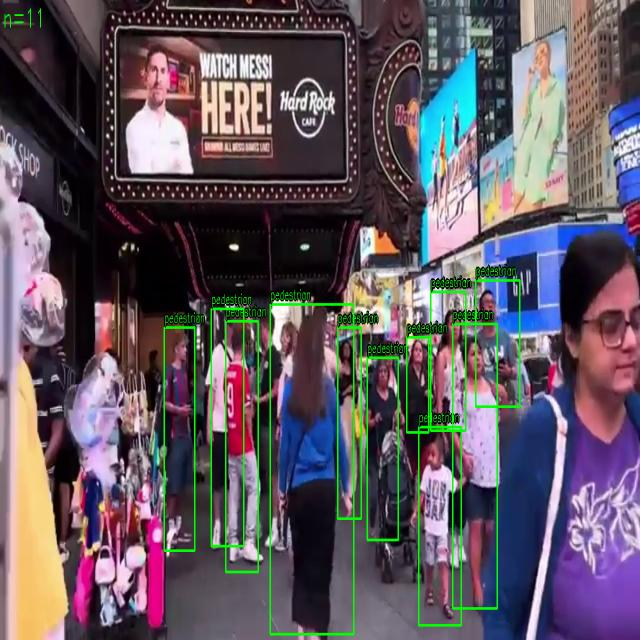with scooter: (270, 304, 354, 635), (452, 323, 498, 609), (418, 427, 462, 626), (226, 321, 258, 572), (211, 308, 244, 546), (164, 327, 195, 551), (367, 358, 399, 540), (476, 280, 520, 407), (430, 292, 466, 431), (338, 327, 362, 519), (407, 337, 429, 433)
